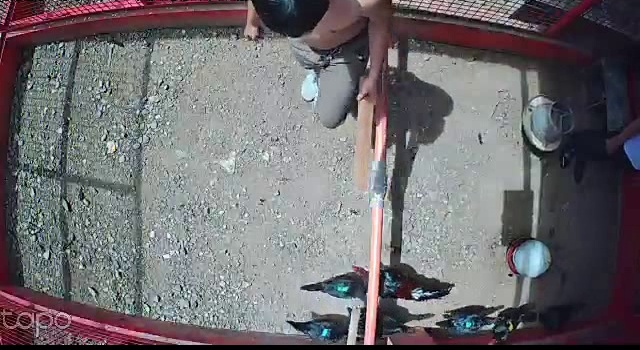Chicken: (297, 270, 371, 308), (342, 304, 421, 338), (286, 318, 351, 346), (436, 312, 507, 337)
Drinker: (505, 235, 552, 281)
Feeder: (520, 95, 579, 155)
Rooster: (349, 260, 452, 307)
Saddle_Color_Blue: (320, 326, 330, 339)
Saddle_Color_Yellow: (505, 320, 515, 332)
